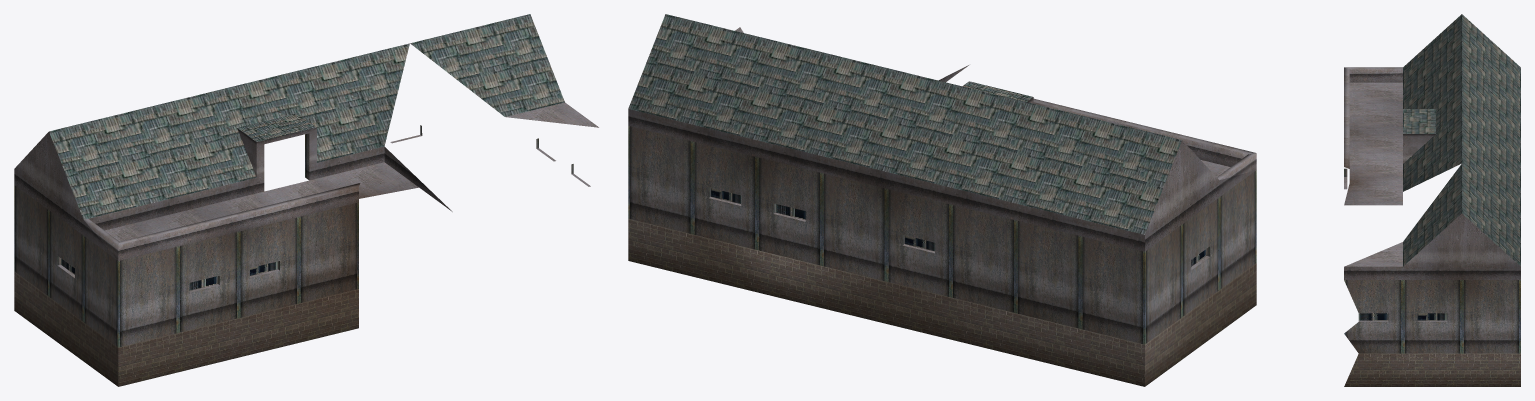
File: M10_Z02Base_24_Offices02.glb
The picture shows the model from 3 angles, left to right: view 1: azimuth 30°, elevation 25°; view 2: azimuth 150°, elevation 25°; view 3: azimuth 270°, elevation 25°; orthographic projection. The views are drawn at different scales.
Visible parts, largest first — view 1: M10_Z02BASE_24_OFFICES02; view 2: M10_Z02BASE_24_OFFICES02; view 3: M10_Z02BASE_24_OFFICES02.
Part boxes in pixels (x1,y1,x2,y2): M10_Z02BASE_24_OFFICES02: [14, 14, 598, 386]; M10_Z02BASE_24_OFFICES02: [628, 14, 1256, 386]; M10_Z02BASE_24_OFFICES02: [1344, 14, 1520, 386].
Size of the model in its own units: 32 by 13 by 16.
Materials: 6 (6 with a texture image).
